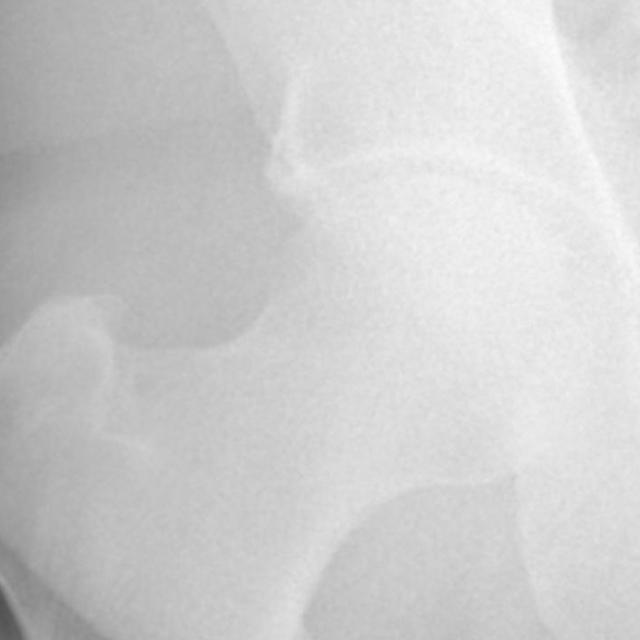Fitted_femural_head: (327, 169, 432, 327)
